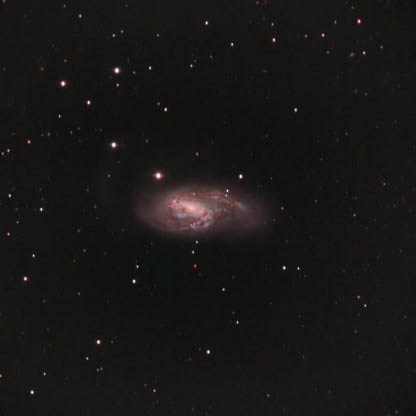Messier 66: (125, 165, 283, 245)
